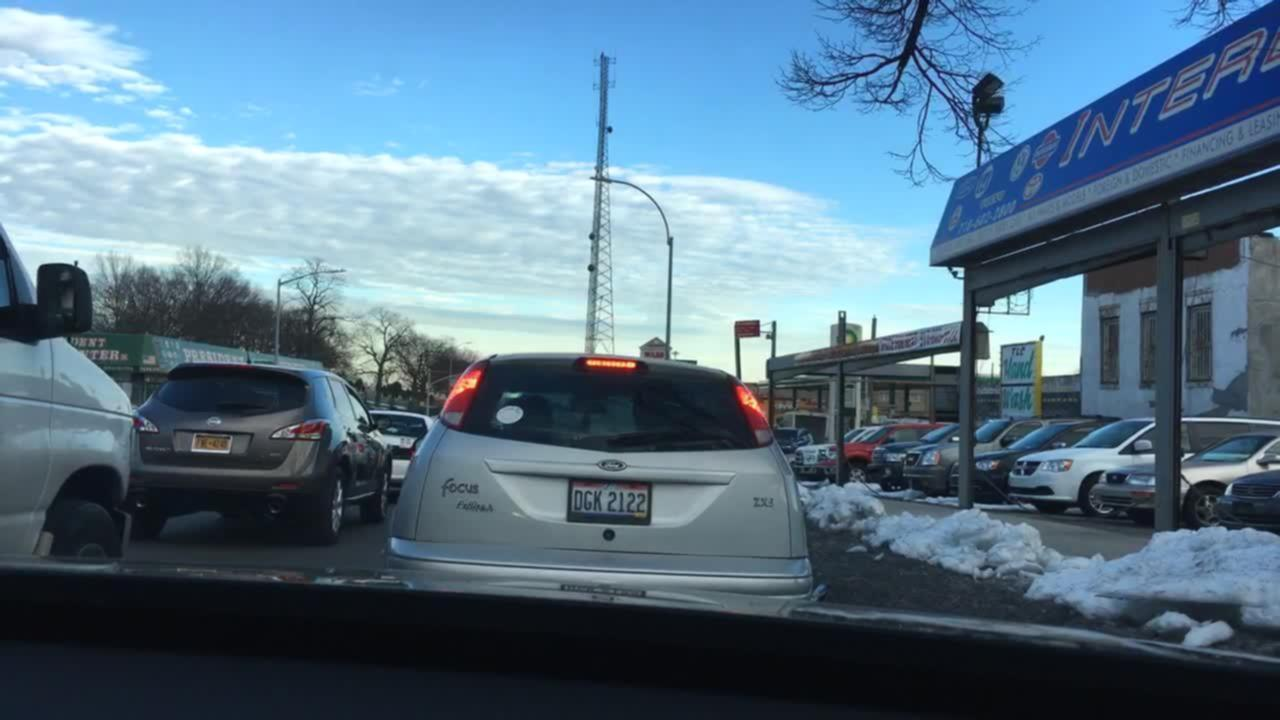Nissan: (202, 411, 226, 434)
ford: (597, 458, 630, 473)
